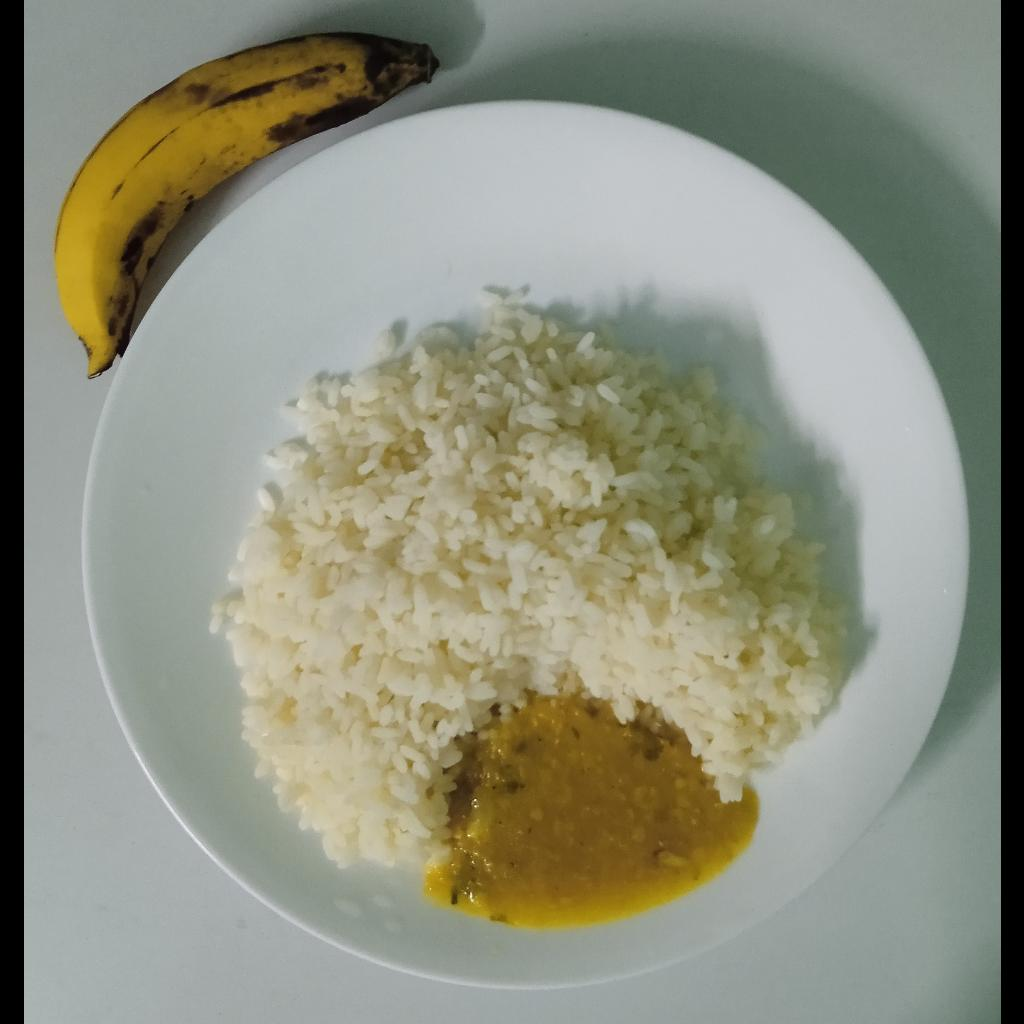banana: (51, 29, 441, 379)
daal: (420, 701, 764, 926)
rice: (205, 287, 849, 865)
